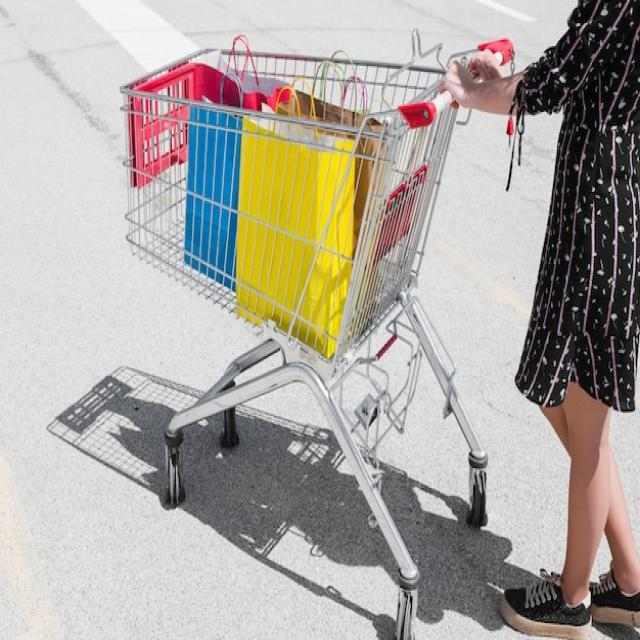Person: (437, 0, 640, 640)
